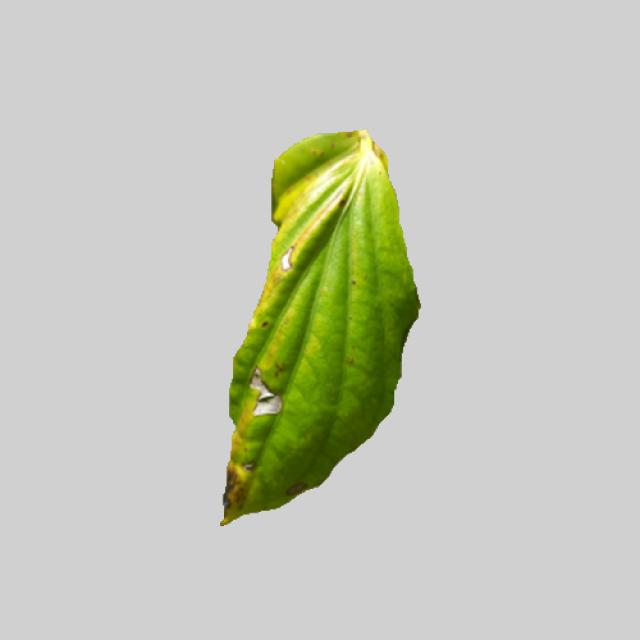yellow-mottle-virus: (200, 127, 423, 525)
